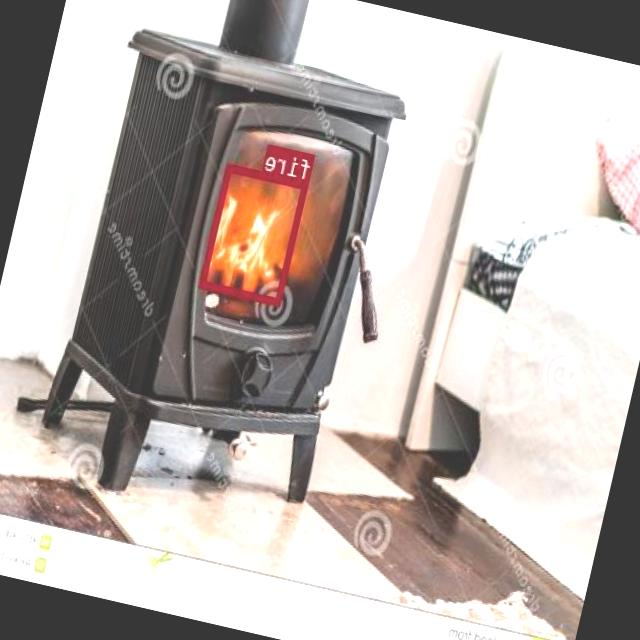fire: (200, 163, 308, 305)
